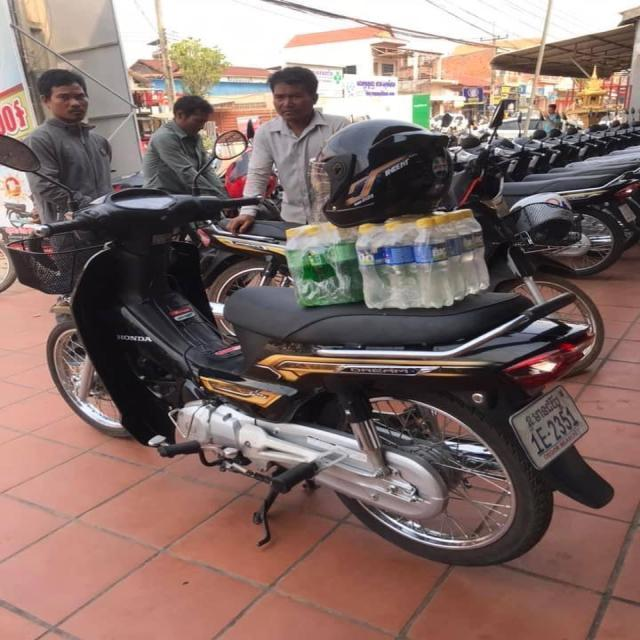Oudor_Meanchey: (522, 391, 565, 426)
